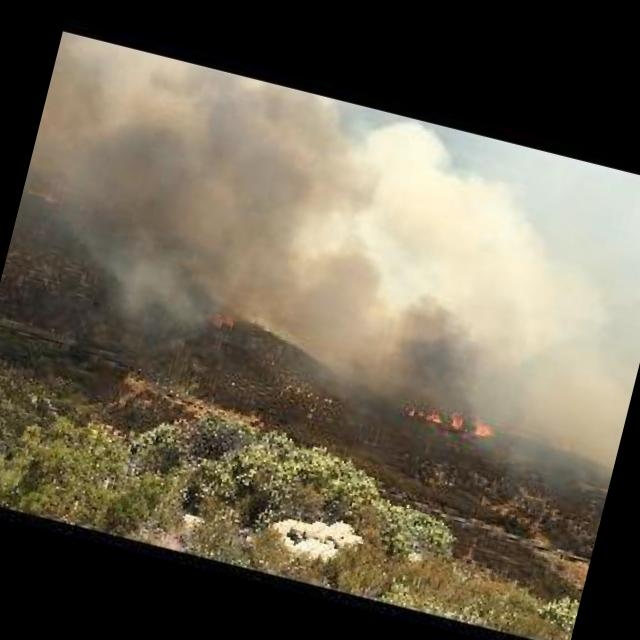fire: (401, 394, 500, 438), (200, 300, 260, 336)
